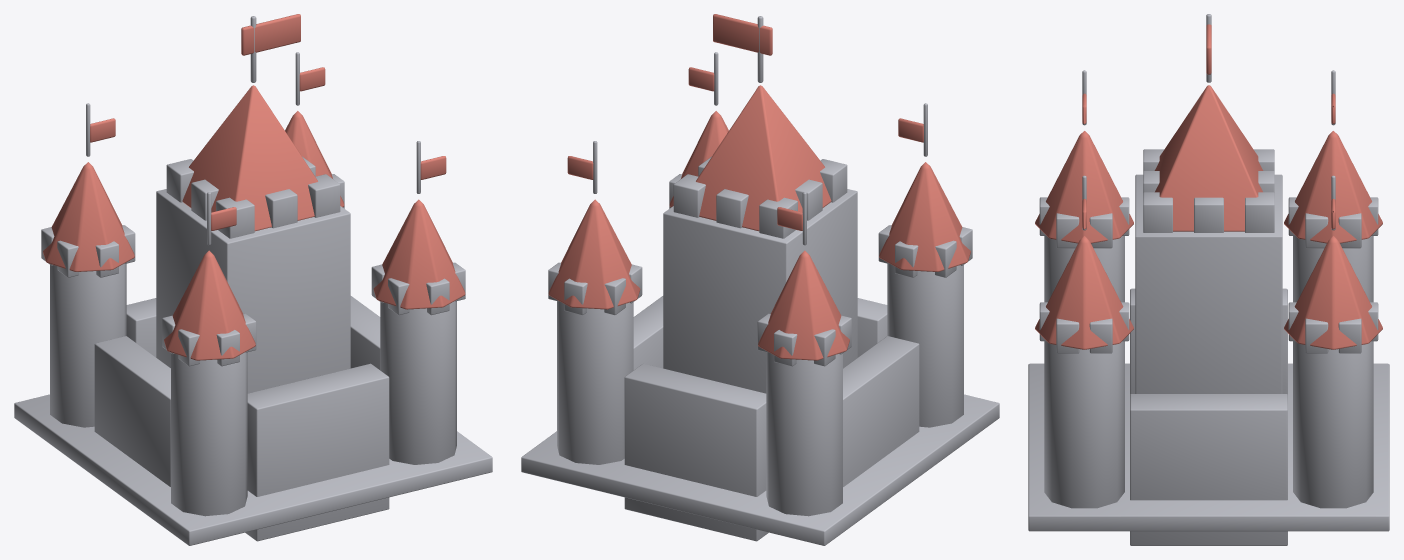
Rendered from castle.glb.
3 renders of one model, left to right at view 1: azimuth 30°, elevation 25°; view 2: azimuth 150°, elevation 25°; view 3: azimuth 270°, elevation 25°, orthographic. The views are drawn at different scales.
Parts seen in each view (by area): view 1: stone, roof; view 2: stone, roof; view 3: stone, roof.
Part boxes in pixels (x1=…): stone: x1=14, y1=16, x2=492, y2=545; roof: x1=43, y1=14, x2=465, y2=360; stone: x1=521, y1=16, x2=999, y2=545; roof: x1=548, y1=14, x2=970, y2=360; stone: x1=1028, y1=14, x2=1389, y2=545; roof: x1=1035, y1=24, x2=1382, y2=349.
Size of the model in its own units: 4.12 by 5.93 by 4.12.
